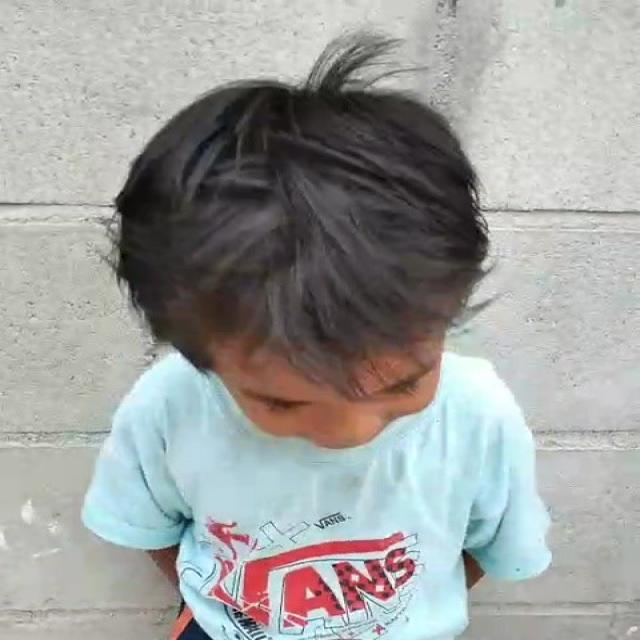9_cabeza_baja: (117, 32, 494, 450)
